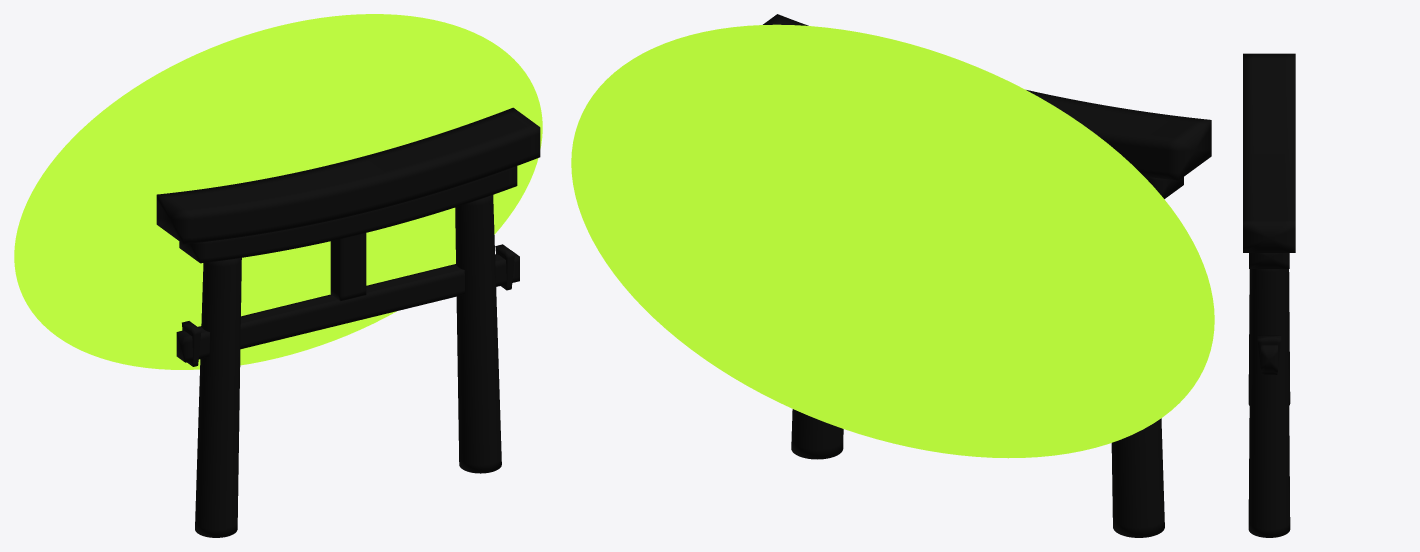
3 views of the same model, side by side, from view 1: azimuth 30°, elevation 25°; view 2: azimuth 150°, elevation 25°; view 3: azimuth 270°, elevation 25° (orthographic). The views are drawn at different scales.
Visible parts, largest first — view 1: hikari, kasagi, hashira_hidari, hashira_migi, nuki, shimagi, gakuzuka; view 2: hikari, kasagi, hashira_hidari, hashira_migi; view 3: kasagi, hashira_migi, shimagi, nuki, hashira_hidari, kusabi_migi.
Part boxes in pixels (bbox=[...]): hikari: bbox=[14, 14, 542, 369]; kasagi: bbox=[156, 107, 540, 244]; hashira_hidari: bbox=[195, 258, 241, 537]; hashira_migi: bbox=[455, 195, 501, 473]; nuki: bbox=[176, 250, 519, 362]; shimagi: bbox=[179, 166, 517, 263]; gakuzuka: bbox=[330, 233, 366, 300]; hikari: bbox=[571, 24, 1214, 458]; kasagi: bbox=[763, 14, 1211, 180]; hashira_hidari: bbox=[1111, 418, 1164, 537]; hashira_migi: bbox=[791, 409, 843, 459]; kasagi: bbox=[1243, 53, 1295, 252]; hashira_migi: bbox=[1248, 269, 1290, 537]; shimagi: bbox=[1249, 253, 1289, 268]; nuki: bbox=[1261, 345, 1277, 372]; hashira_hidari: bbox=[1248, 269, 1290, 405]; kusabi_migi: bbox=[1257, 335, 1281, 374].
Bounding box in the file's own units: 2.4 × 1.82 × 0.656.
